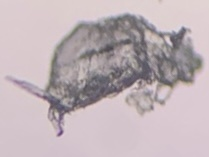microplastic: (10, 16, 204, 140)
